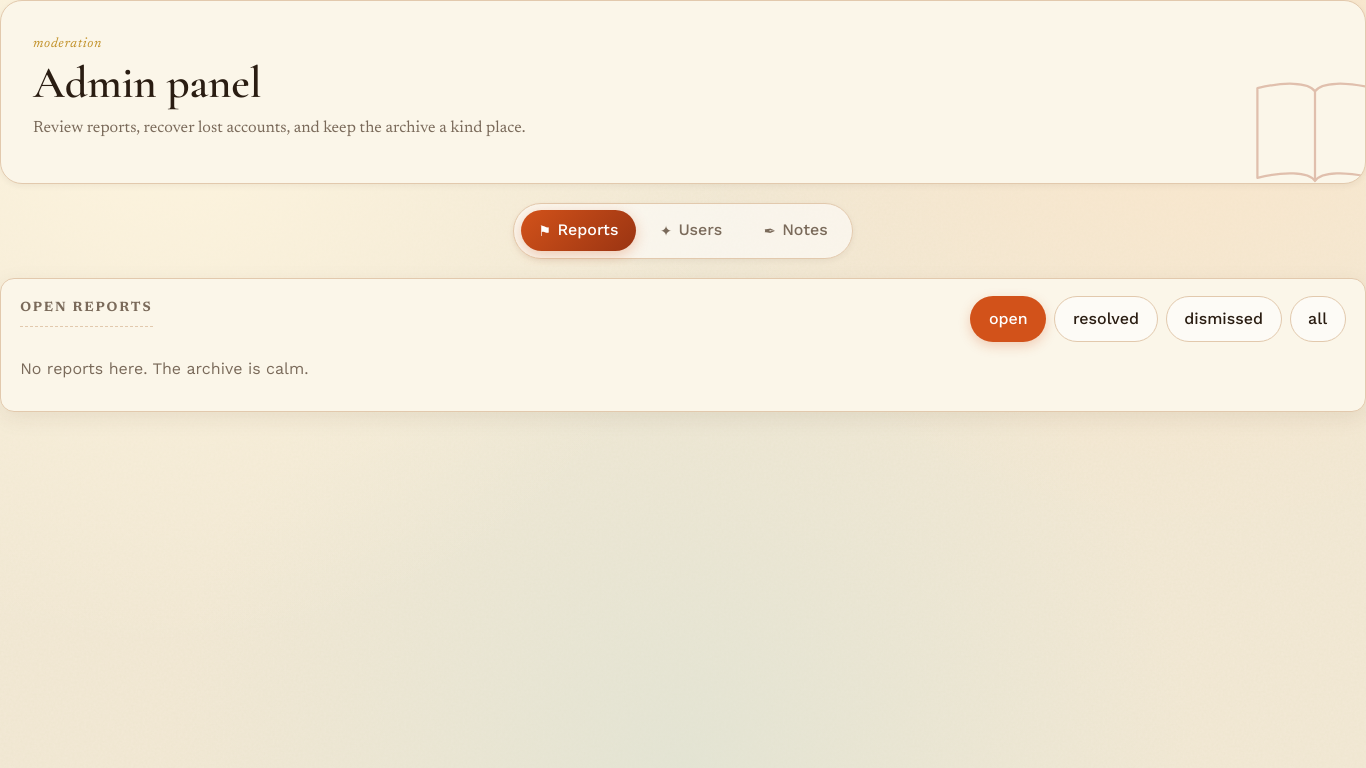
it: AdminDashboard › renders note rows on the notes tab and deletes one after confirming
Click the button "✒ Notes" at (796,231), box [746,210,845,251]
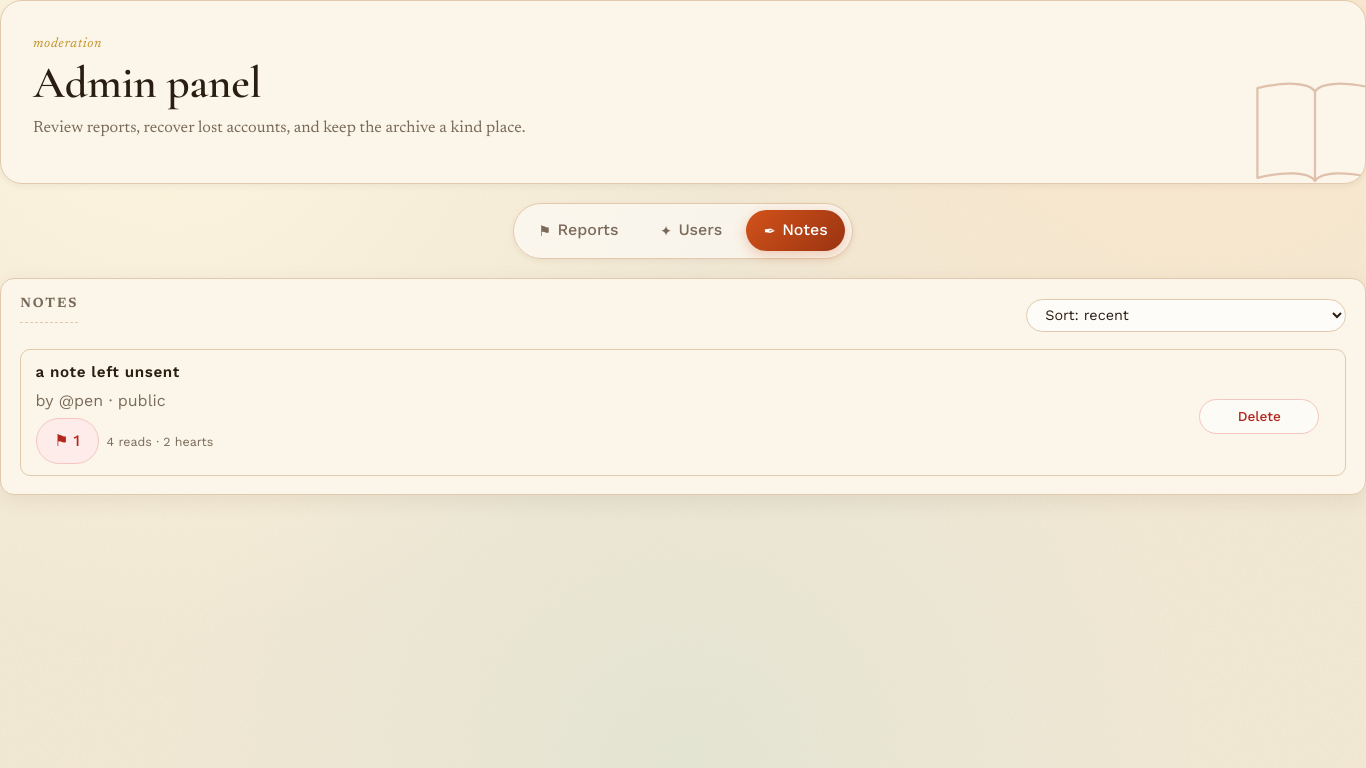
Expected: the link "a note left unsent" is shown, [36,363,180,381]
Expected: the text "by @pen · public" is shown, [36,391,166,410]
Expected: the text "4 reads · 2 hearts" is shown, [106,432,213,451]
Click the button "Delete" at (1259,417), box [1199,399,1319,434]
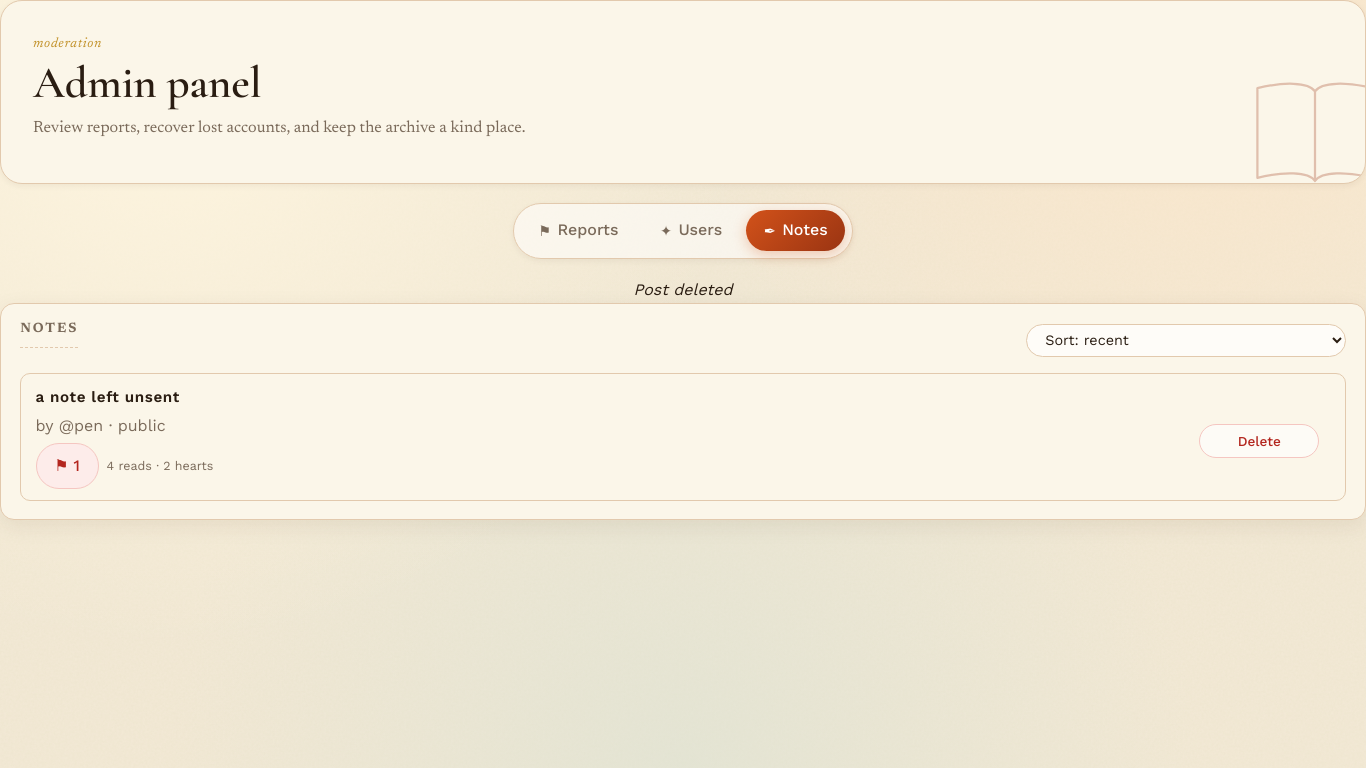
Expected: the text "Post deleted" is shown, [634,280,732,299]
